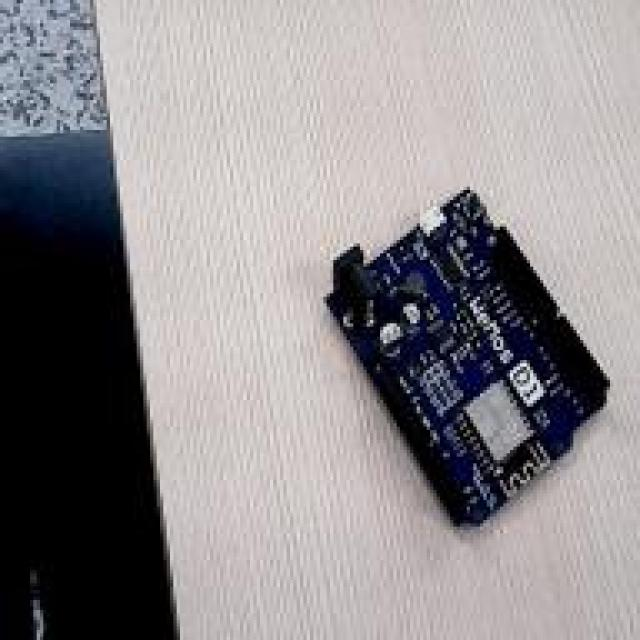Wemos: (328, 191, 608, 521)
